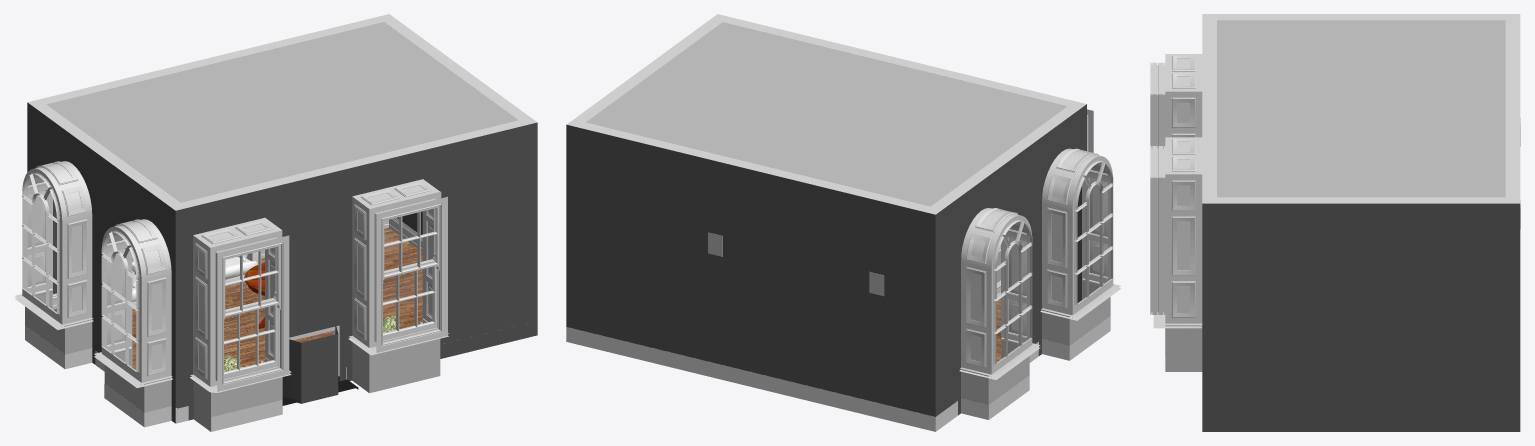
File: living-room-fireplace.glb
3 renders of one model, left to right at view 1: azimuth 30°, elevation 25°; view 2: azimuth 150°, elevation 25°; view 3: azimuth 270°, elevation 25°, orthographic. The views are drawn at different scales.
Parts seen in each view (by area): view 1: shape_12, shape_5, shape_1, shape_10, Floor, shape_13; view 2: shape_5, shape_12, shape_1, shape_10, shape_3; view 3: shape_5, shape_12, shape_10, shape_1.
Boxes of the visible parts, left/top/right/bottom form: shape_12: left=25, top=22, right=518, bottom=431; shape_5: left=27, top=102, right=537, bottom=423; shape_1: left=14, top=161, right=448, bottom=431; shape_10: left=28, top=14, right=536, bottom=391; Floor: left=53, top=227, right=422, bottom=370; shape_13: left=132, top=251, right=258, bottom=309; shape_5: left=566, top=104, right=1086, bottom=416; shape_12: left=586, top=22, right=1110, bottom=404; shape_1: left=566, top=148, right=1121, bottom=431; shape_10: left=567, top=14, right=1093, bottom=296; shape_3: left=708, top=232, right=884, bottom=296; shape_5: left=1202, top=203, right=1520, bottom=431; shape_12: left=1165, top=20, right=1519, bottom=371; shape_10: left=1150, top=14, right=1520, bottom=314; shape_1: left=1153, top=54, right=1202, bottom=355.
Bounding box in the file's own units: 5.64 × 2.88 × 4.23.
Materials: 17 (4 with a texture image).
